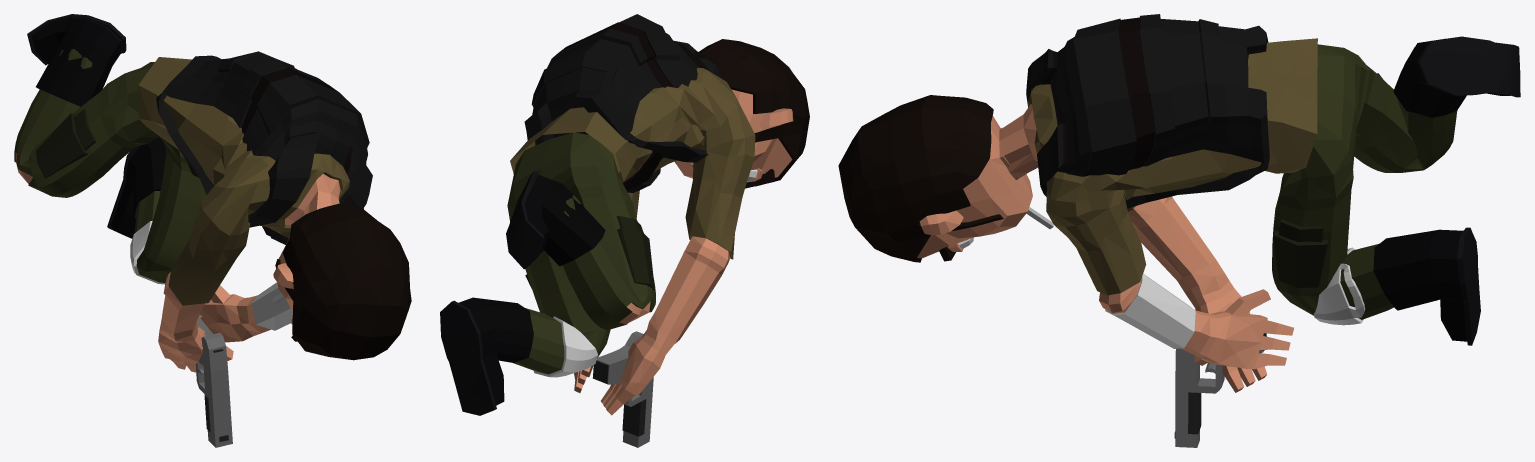
The model's file is frame_0059.obj.
3 renders of one model, left to right at view 1: azimuth 30°, elevation 25°; view 2: azimuth 150°, elevation 25°; view 3: azimuth 270°, elevation 25°, orthographic. The views are drawn at different scales.
Parts seen in each view (by area): view 1: Body, Gun; view 2: Body, Gun; view 3: Body, Gun.
Part boxes in pixels (left/top/right/bottom): Body: left=14, top=14, right=411, bottom=372; Gun: left=195, top=316, right=232, bottom=447; Body: left=440, top=14, right=809, bottom=415; Gun: left=592, top=331, right=653, bottom=447; Body: left=838, top=14, right=1520, bottom=392; Gun: left=1174, top=333, right=1266, bottom=447.
Bounding box in the file's own units: 1.42 × 2.41 × 3.38.
